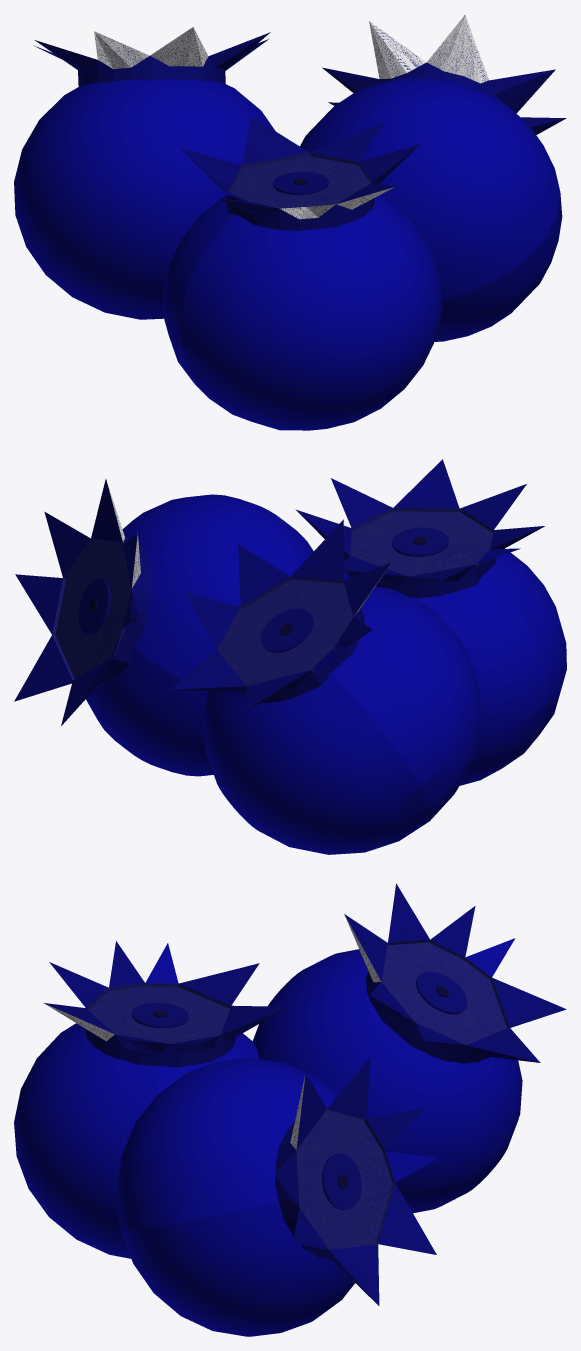
Rendered from Blueberry.dae.
The picture shows the model from 3 angles, top to bottom: view 1: azimuth 30°, elevation 25°; view 2: azimuth 150°, elevation 25°; view 3: azimuth 270°, elevation 25°; orthographic projection.
Visible parts, largest first — view 1: blue_berry (×3), blue_berry_top (×15); view 2: blue_berry (×3), blue_berry_top (×16); view 3: blue_berry (×3), blue_berry_top (×18).
Boxes of the visible parts, x1=… form: blue_berry (×3): x1=14, y1=77, x2=562, y2=430; blue_berry_top (×15): x1=34, y1=14, x2=555, y2=230; blue_berry (×3): x1=86, y1=494, x2=566, y2=854; blue_berry_top (×16): x1=14, y1=459, x2=544, y2=725; blue_berry (×3): x1=14, y1=949, x2=522, y2=1336; blue_berry_top (×18): x1=44, y1=883, x2=566, y2=1305.
Size of the model in its own units: 60.13 by 58.77 by 38.22.
